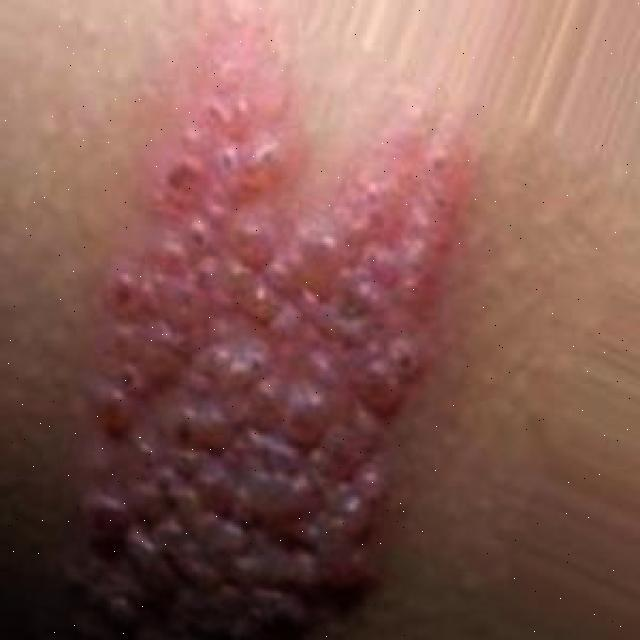Shingles: (66, 9, 478, 634)
